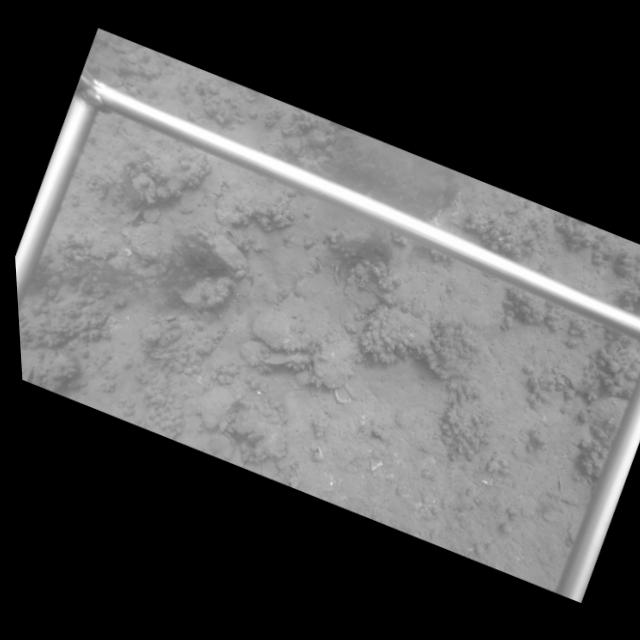Oyster-Closed: (228, 399, 287, 457), (246, 433, 264, 444)
Oyster-Indeterminate: (309, 332, 362, 394), (248, 308, 311, 352), (178, 275, 230, 311), (199, 385, 236, 431), (126, 222, 164, 264)
